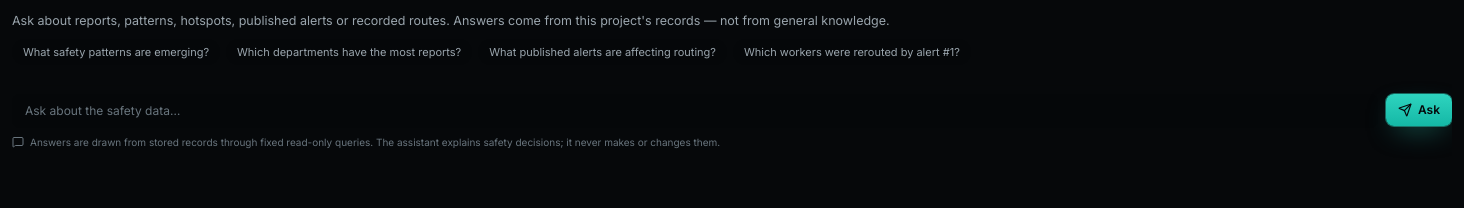
Test: an ungrounded answer › says there is not enough data and offers a hint instead of guessing
This screenshot has width=1464, height=208.
Type "What is the capital of France?" into the field named "Ask the safety assistant".
click(695, 111); type("What is the capital of France?")  # box [12, 94, 1378, 128]
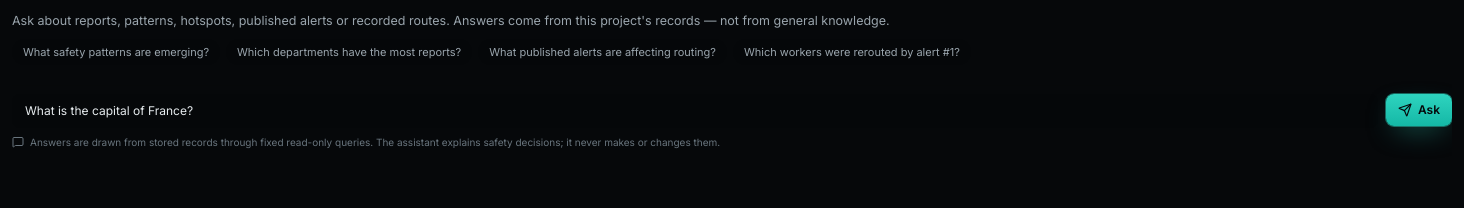
Click the button "Ask".
click(1419, 110)  # box [1386, 94, 1452, 126]
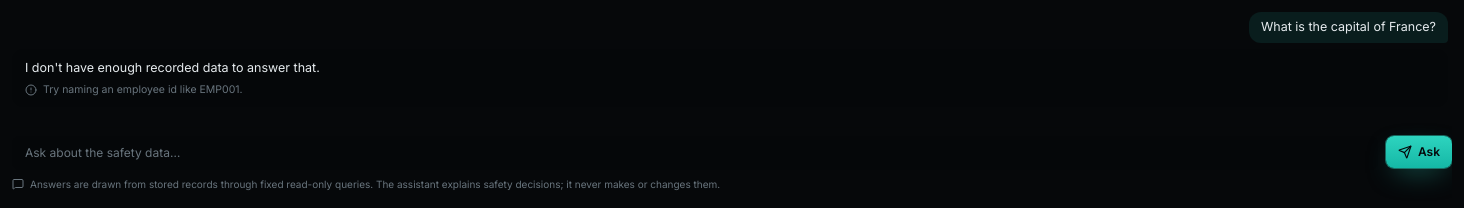
Check: the text "I don't have enough recorded data to answer that." is shown, box [25, 60, 320, 75]
Check: the text "Try naming an employee id like EMP001." is shown, box [25, 83, 243, 96]
